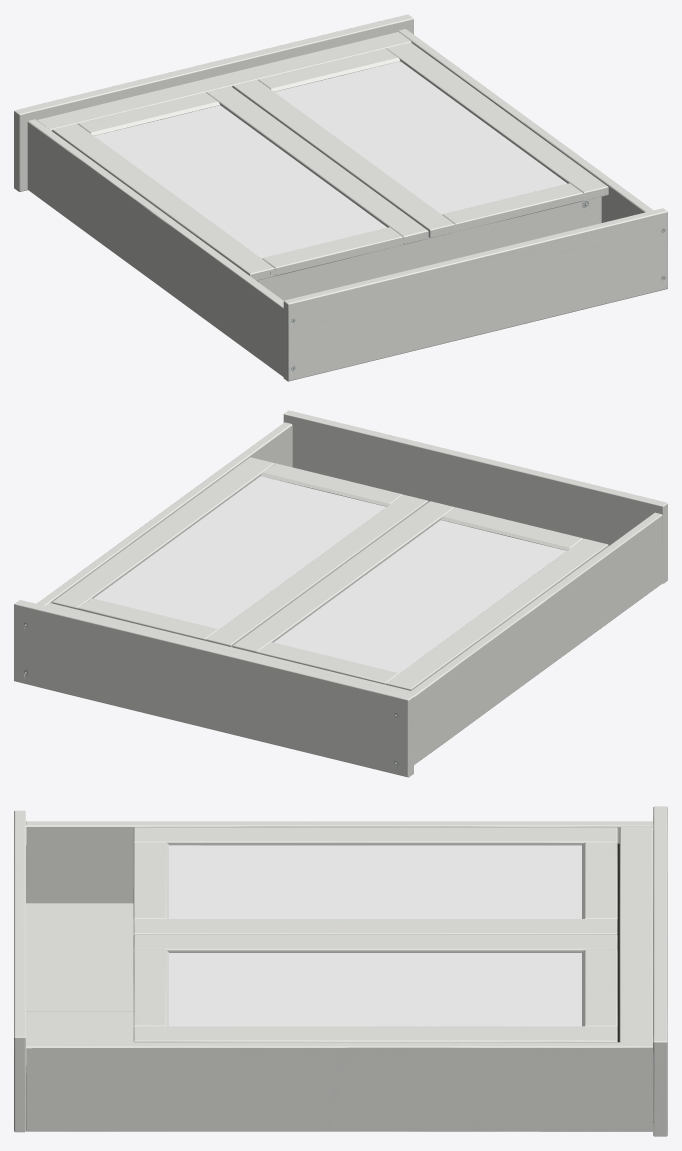
3 views of the same model, one above another, from view 1: azimuth 30°, elevation 25°; view 2: azimuth 150°, elevation 25°; view 3: azimuth 270°, elevation 25° (orthographic). The views are drawn at different scales.
Visible parts, largest first — view 1: 1; view 2: 1; view 3: 1.
Part boxes in pixels (bbox=[...]): 1: bbox=[14, 14, 667, 381]; 1: bbox=[14, 410, 667, 777]; 1: bbox=[14, 806, 667, 1136].
Size of the model in its own units: 0.831 by 0.1575 by 0.974.
2 materials, 2 textured.
